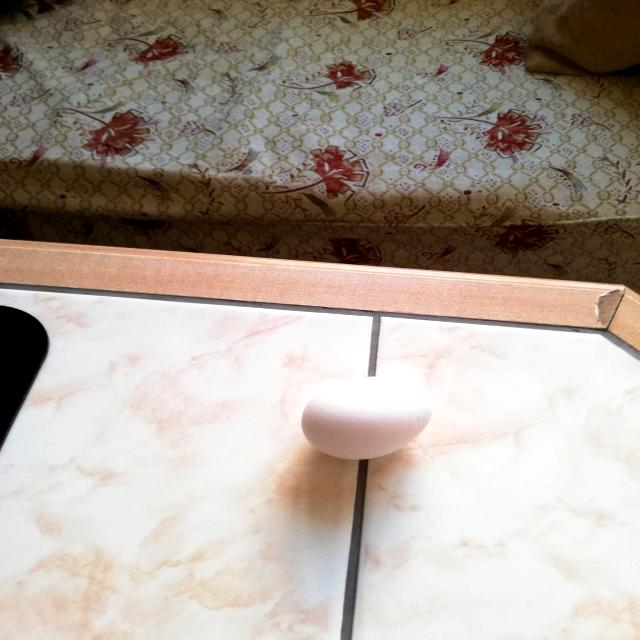egg: (292, 373, 439, 462)
